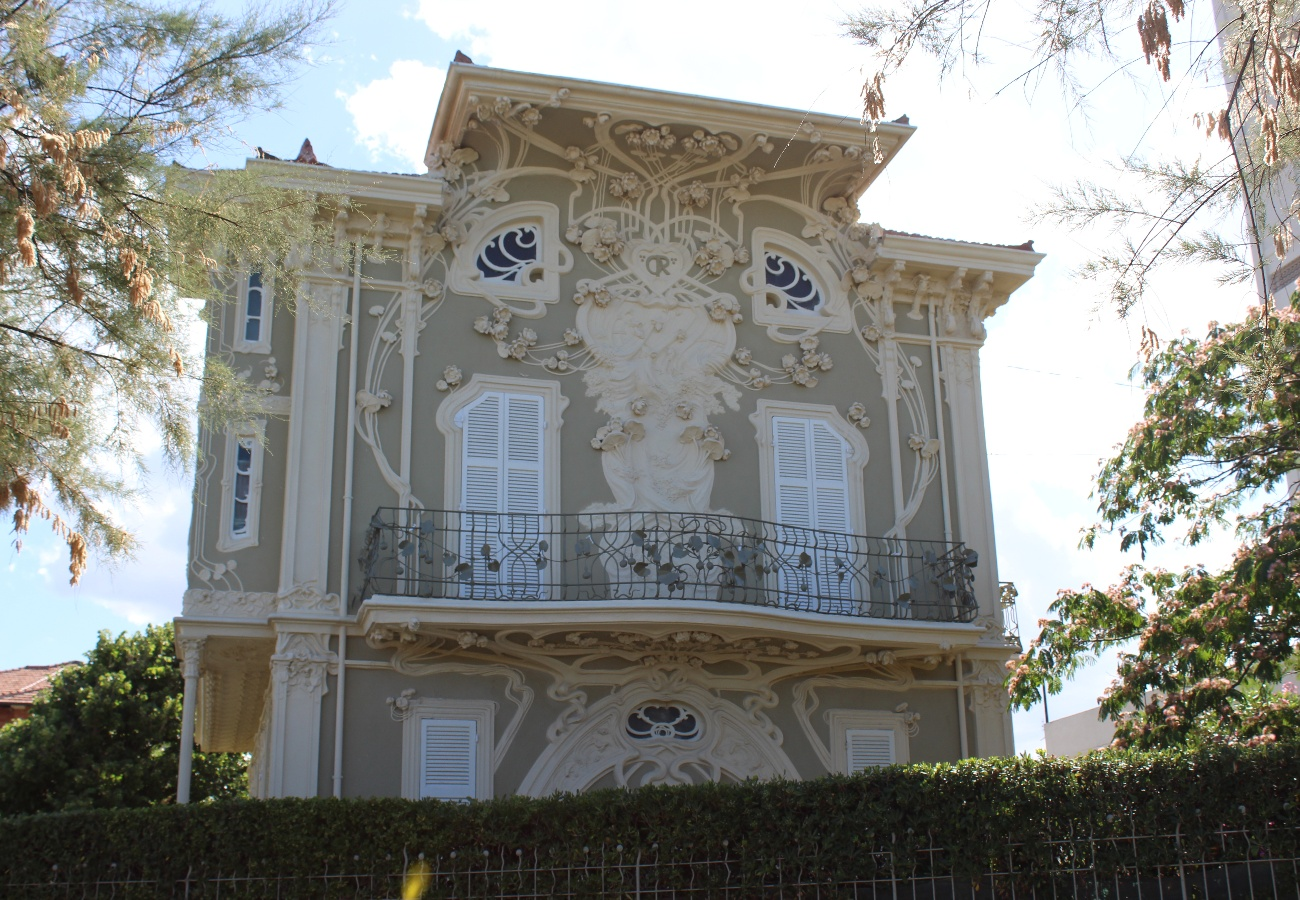Villino Ruggeri: (138, 51, 1044, 900)
